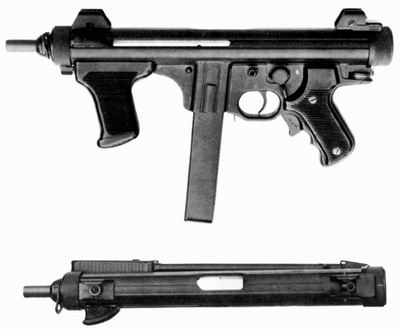rifle: (12, 9, 395, 215), (20, 256, 387, 325)
